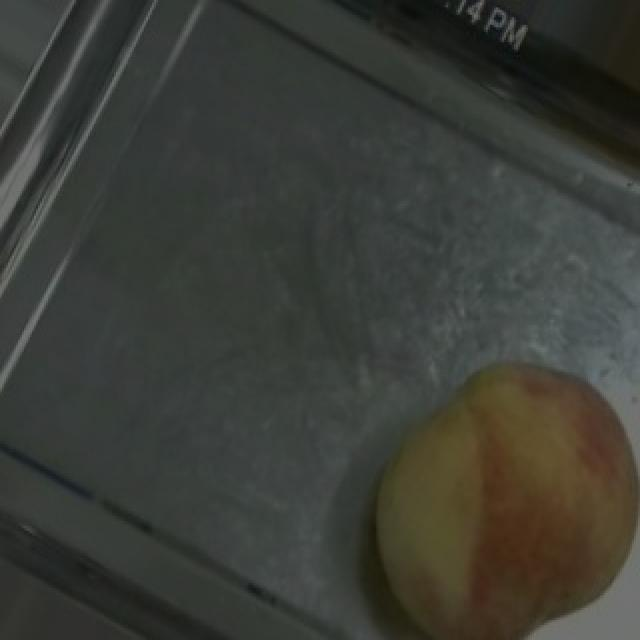Fruit: (330, 325, 640, 640)
